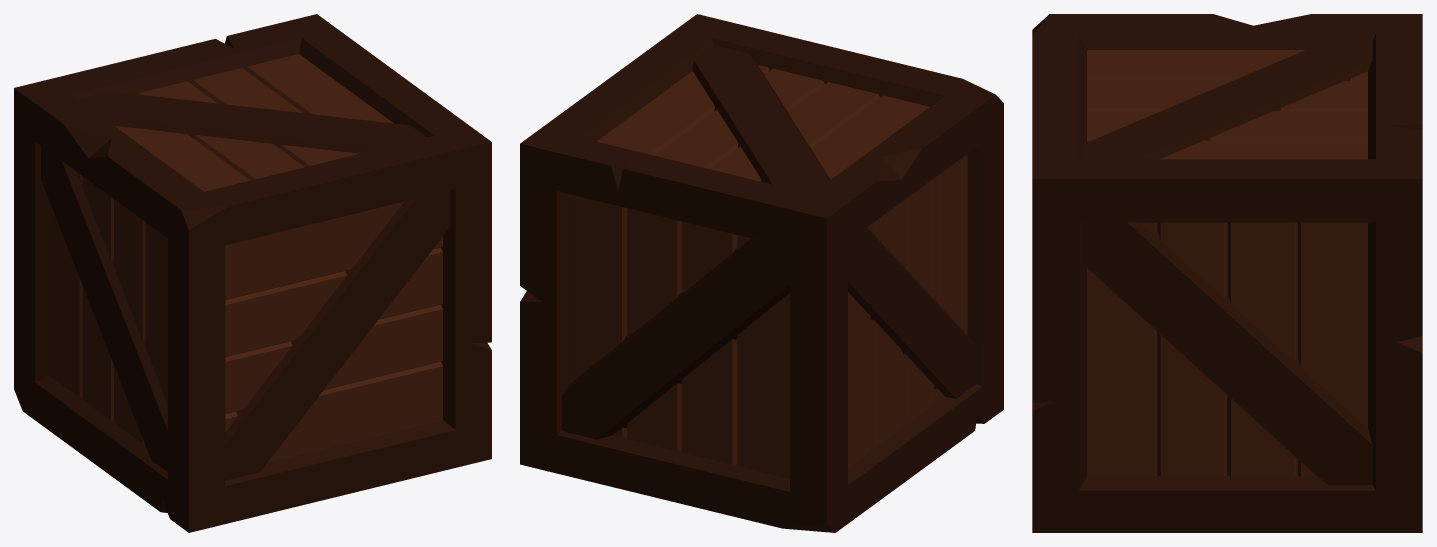
File: Crate.fbx.glb
3 views of the same model, side by side, from view 1: azimuth 30°, elevation 25°; view 2: azimuth 150°, elevation 25°; view 3: azimuth 270°, elevation 25° (orthographic). The views are drawn at different scales.
Visible parts, largest first — view 1: Crate; view 2: Crate; view 3: Crate.
Part boxes in pixels (x1,y1,x2,y2): Crate: [14, 14, 491, 532]; Crate: [520, 14, 1003, 532]; Crate: [1032, 14, 1422, 532].
Bounding box in the file's own units: 100 × 100 × 100.
